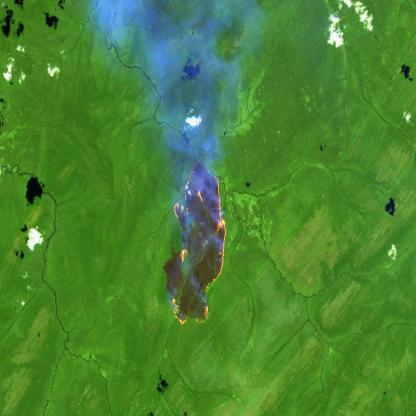fire: (168, 158, 227, 332)
